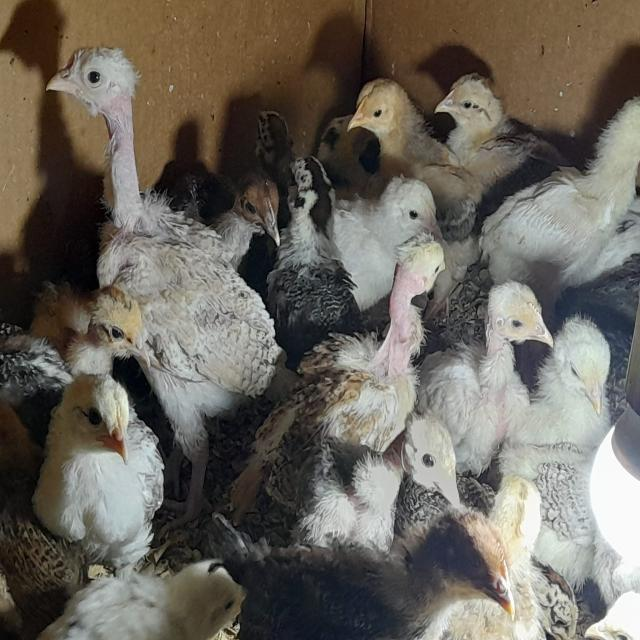Unhealthy: (38, 36, 288, 442), (259, 219, 447, 448)
